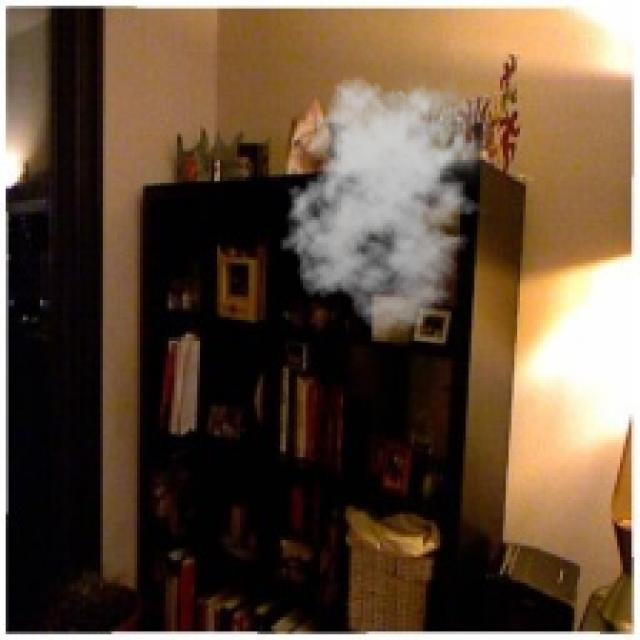smoke: (280, 68, 494, 332)
